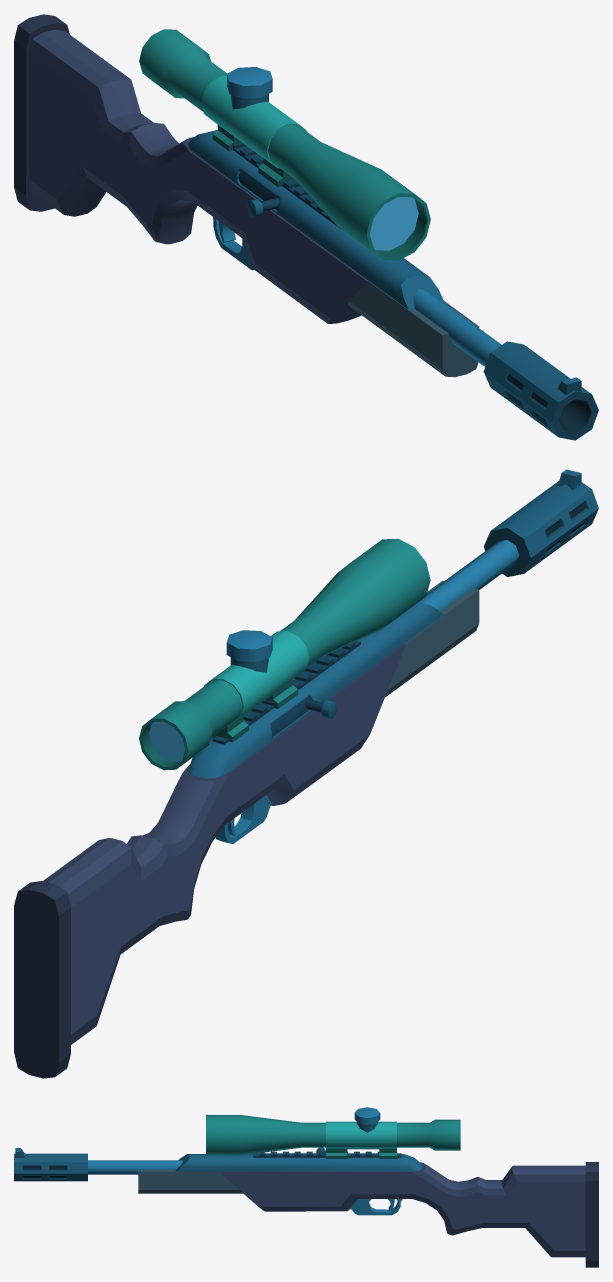
File: Weapon_SniperRifle01_G3.fbx
3 views of the same model, one above another, from view 1: azimuth 30°, elevation 25°; view 2: azimuth 150°, elevation 25°; view 3: azimuth 270°, elevation 25° (orthographic). The views are drawn at different scales.
Parts seen in each view (by area): view 1: Weapon_SniperRifle01_G3; view 2: Weapon_SniperRifle01_G3; view 3: Weapon_SniperRifle01_G3.
Boxes of the visible parts, left/top/right/bottom form: Weapon_SniperRifle01_G3: left=14, top=14, right=598, bottom=440; Weapon_SniperRifle01_G3: left=14, top=469, right=598, bottom=1078; Weapon_SniperRifle01_G3: left=14, top=1107, right=598, bottom=1267.
Bounding box in the file's own units: 1.44 × 5.26 × 18.17.
